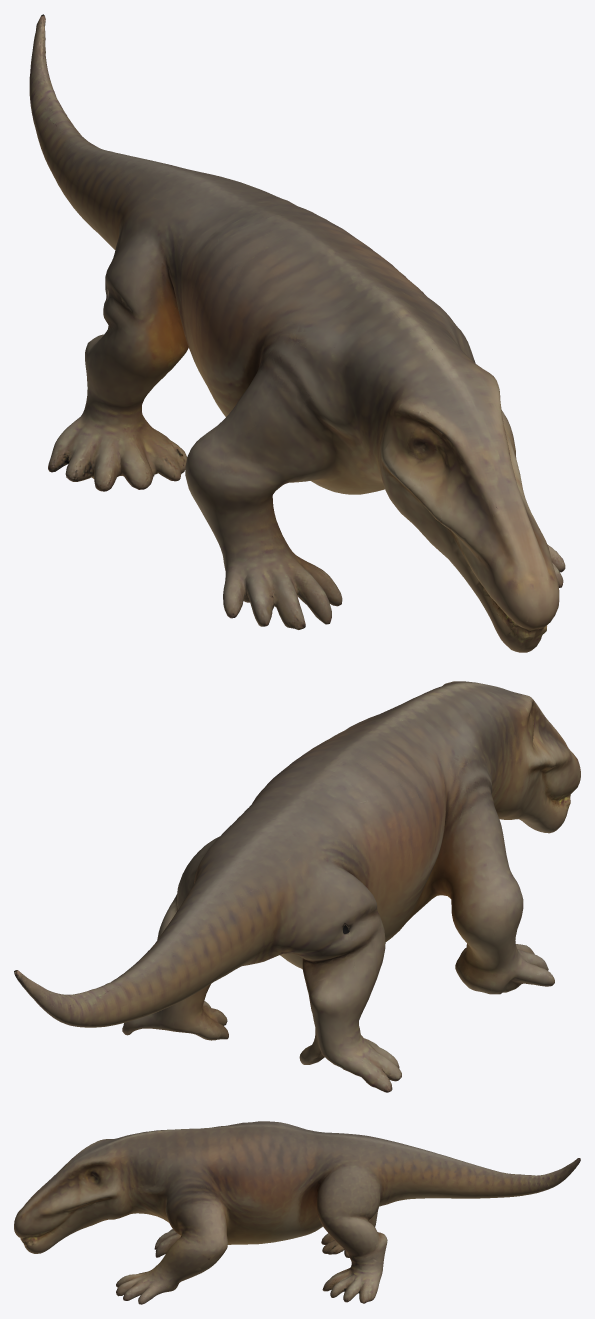
The picture shows the model from 3 angles, top to bottom: view 1: azimuth 30°, elevation 25°; view 2: azimuth 150°, elevation 25°; view 3: azimuth 270°, elevation 25°; orthographic projection. The views are drawn at different scales.
Visible parts, largest first — view 1: world; view 2: world; view 3: world.
Part boxes in pixels (bbox=[...]): world: bbox=[29, 14, 565, 652]; world: bbox=[14, 681, 580, 1092]; world: bbox=[14, 1121, 580, 1304].
Bounding box in the file's own units: 0.6906 × 0.6452 × 2.2.
1 material, 1 textured.
